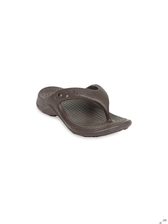shoes: (31, 83, 138, 136)
